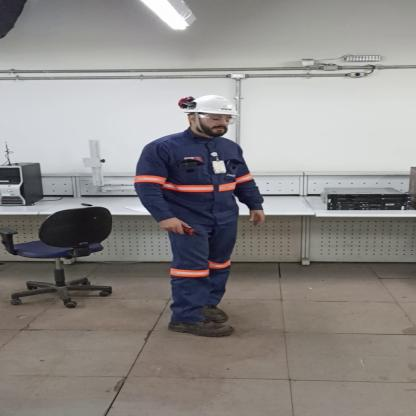Capacete: (176, 91, 245, 117)
